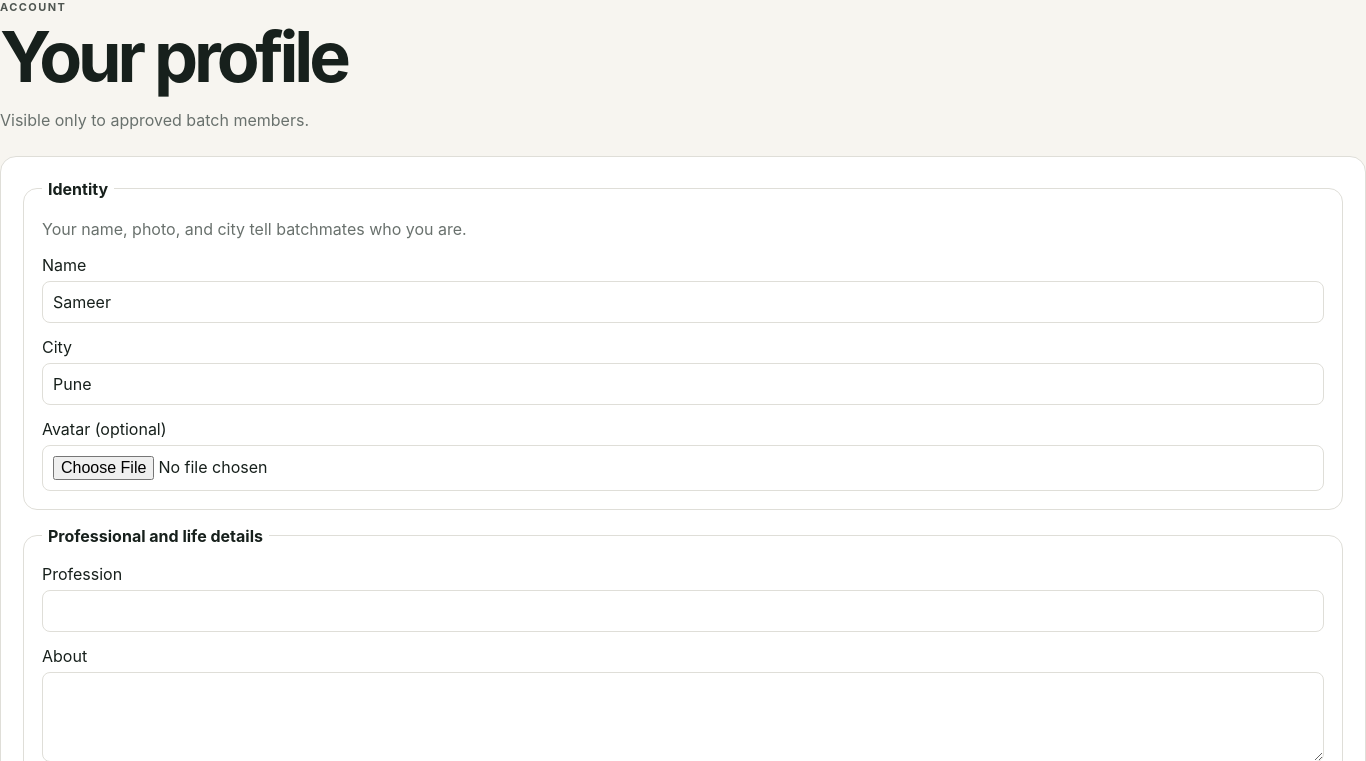
UX-5 Account sections and sticky save › groups fields into labelled sections and offers a member-safe preview
Expected: the element "Identity" is shown, [23,179,1343,510]
Type "!!" into the field labelled "City" at (683, 384), box [42,363,1324,405]
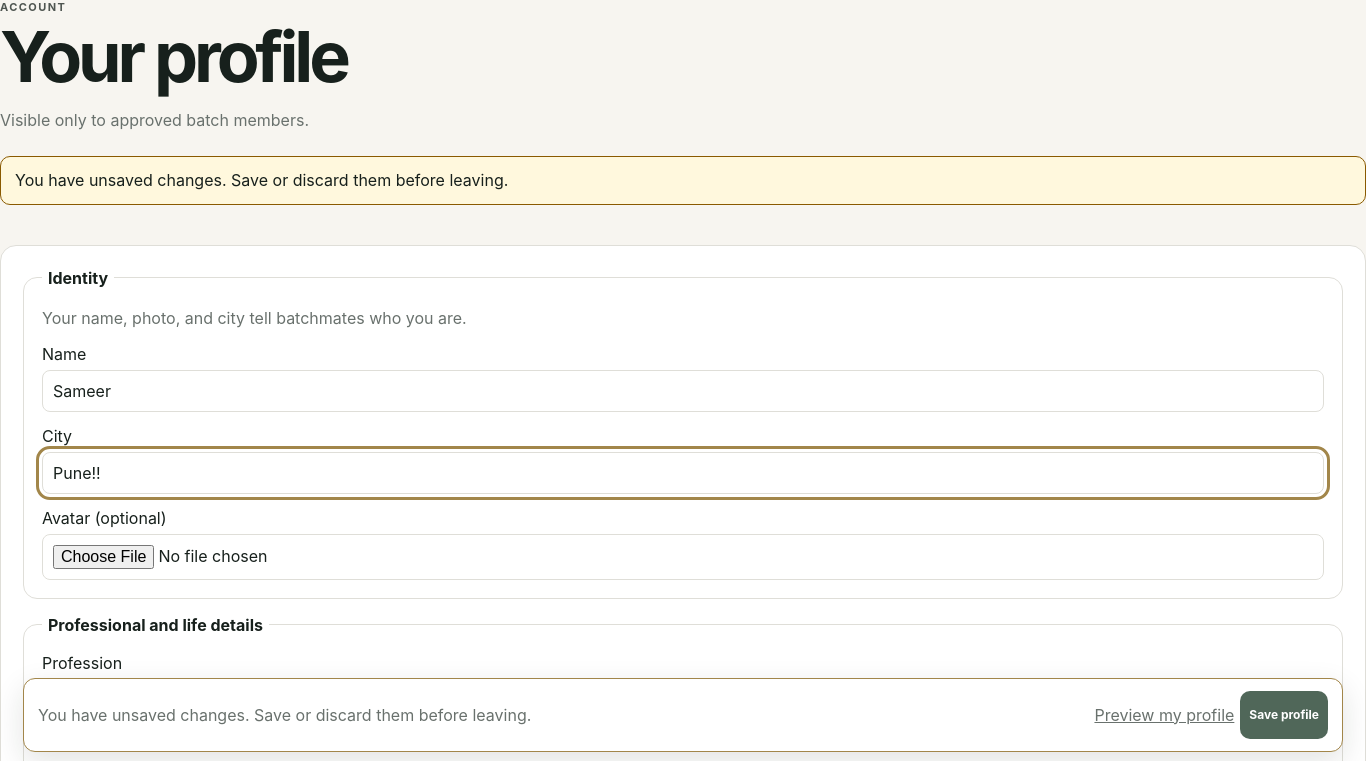
Click the link "Preview my profile" at (1164, 715), box [1094,705,1234,725]
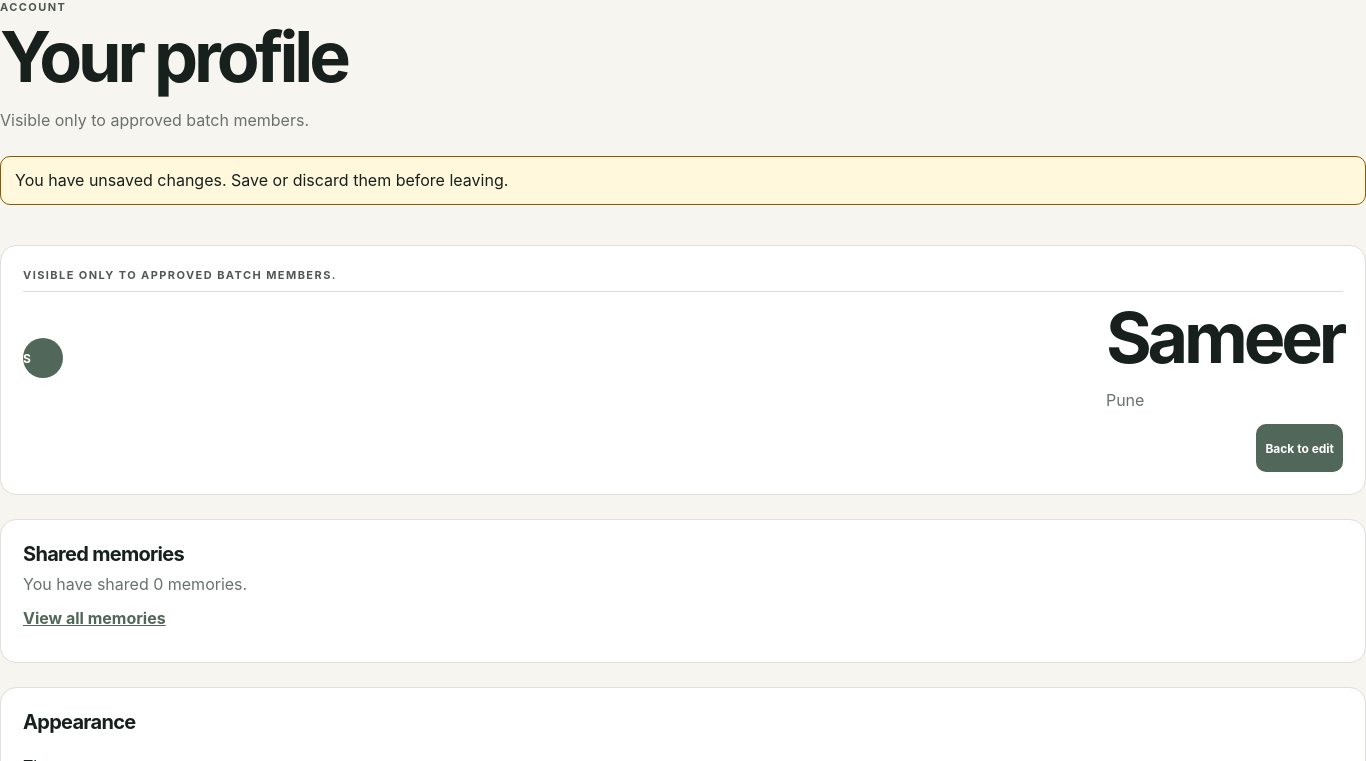
Result: the heading "Sameer" is shown at [1106,304,1343,372]
